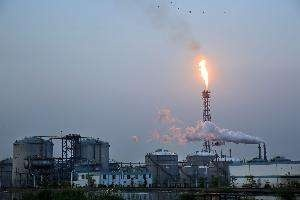fire: (195, 55, 210, 91)
